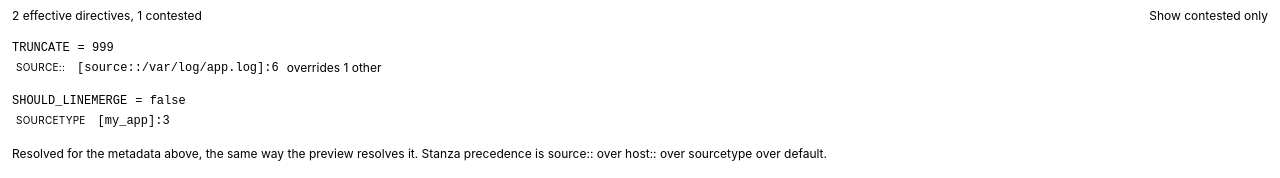
EffectiveConfigTab (#86) › filters to the contested rows on request
The width and height of the screenshot is (1280, 178).
Click the button "Show contested only": click(1209, 16) [1149,8,1268,24]
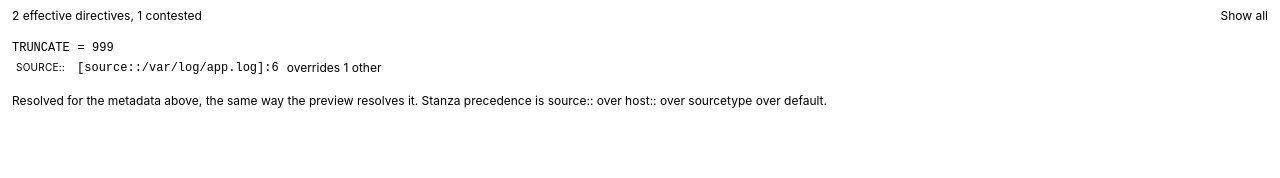
expect the text "TRUNCATE" is shown: met, box [12,40,70,56]
expect the text "SHOULD_LINEMERGE" is gone: met
